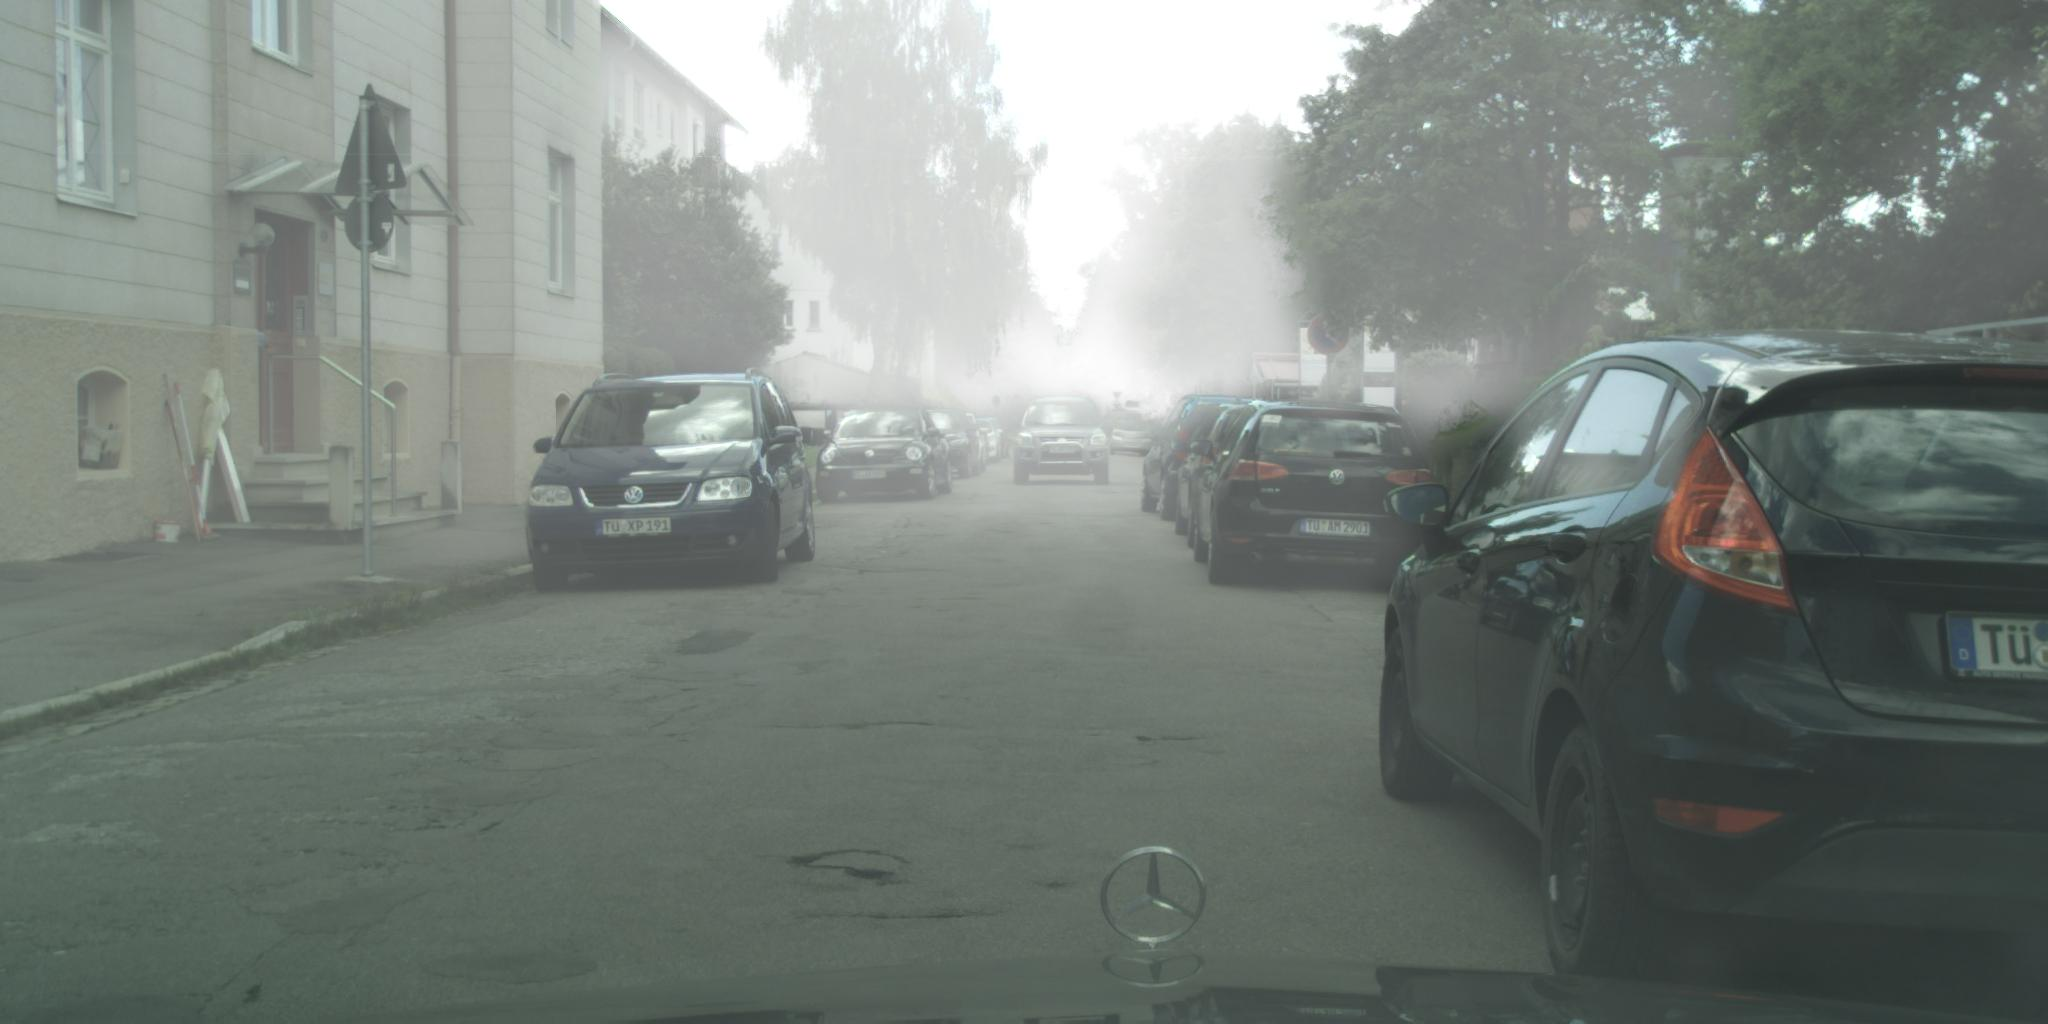car: (1381, 329, 2047, 989), (526, 370, 818, 592), (1189, 401, 1439, 588), (1140, 394, 1260, 522), (816, 404, 955, 504), (1169, 405, 1256, 552), (1010, 394, 1110, 487), (916, 410, 981, 481), (959, 411, 991, 475), (1101, 401, 1149, 441), (1108, 421, 1155, 458), (972, 419, 1004, 465), (984, 417, 1012, 458)
